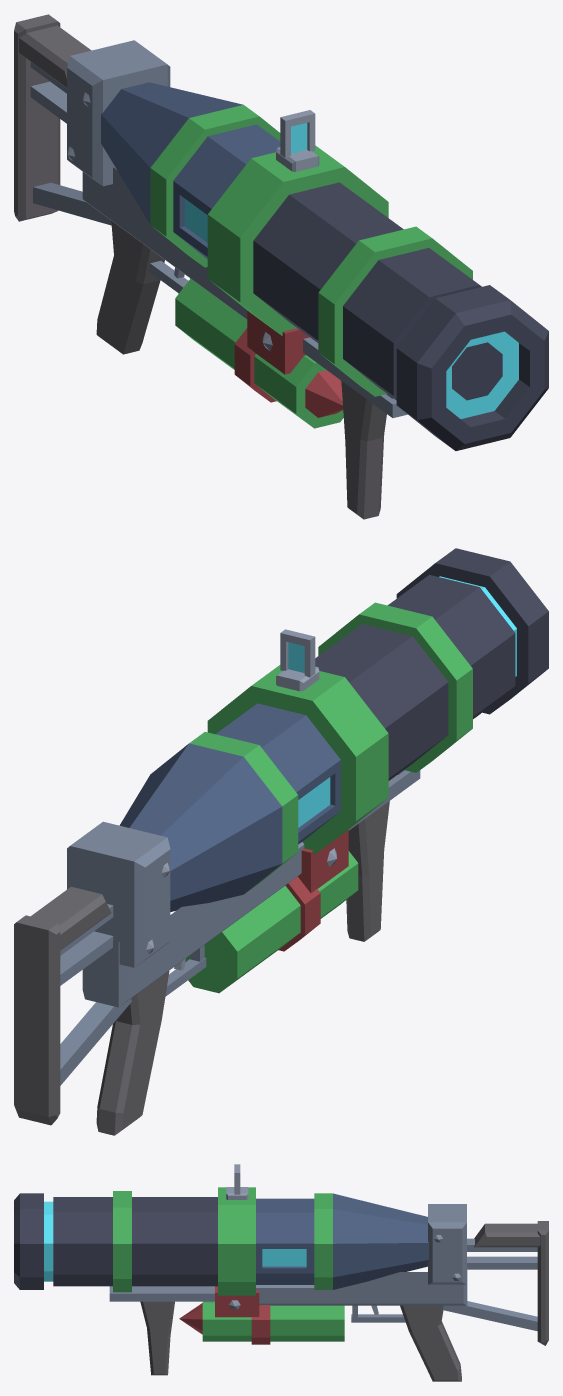
Rendered from payload-launcher-6e25e1.glb.
The picture shows the model from 3 angles, top to bottom: view 1: azimuth 30°, elevation 25°; view 2: azimuth 150°, elevation 25°; view 3: azimuth 270°, elevation 25°; orthographic projection. The views are drawn at different scales.
Visible parts, largest first — view 1: launcher-metal, launcher-matte, feed-matte, launcher-crystal; view 2: launcher-matte, launcher-metal, feed-matte, launcher-crystal; view 3: launcher-metal, launcher-matte, feed-matte, launcher-crystal.
Boxes of the visible parts, left/top/right/bottom form: launcher-metal: left=30, top=40, right=548, bottom=450; launcher-matte: left=14, top=14, right=472, bottom=519; feed-matte: left=175, top=278, right=343, bottom=428; launcher-crystal: left=184, top=123, right=518, bottom=418; launcher-matte: left=14, top=602, right=472, bottom=1135; launcher-metal: left=60, top=548, right=548, bottom=1085; feed-matte: left=185, top=851, right=358, bottom=993; launcher-crystal: left=288, top=576, right=516, bottom=827; launcher-metal: left=14, top=1164, right=537, bottom=1331; launcher-matte: left=113, top=1187, right=548, bottom=1381; feed-matte: left=179, top=1301, right=344, bottom=1344; launcher-crystal: left=44, top=1201, right=306, bottom=1281.
Size of the model in its own units: 0.2378 by 0.55 by 1.27.
